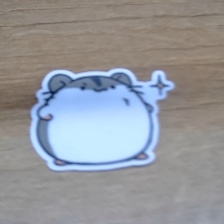mouse: (27, 64, 178, 176)
